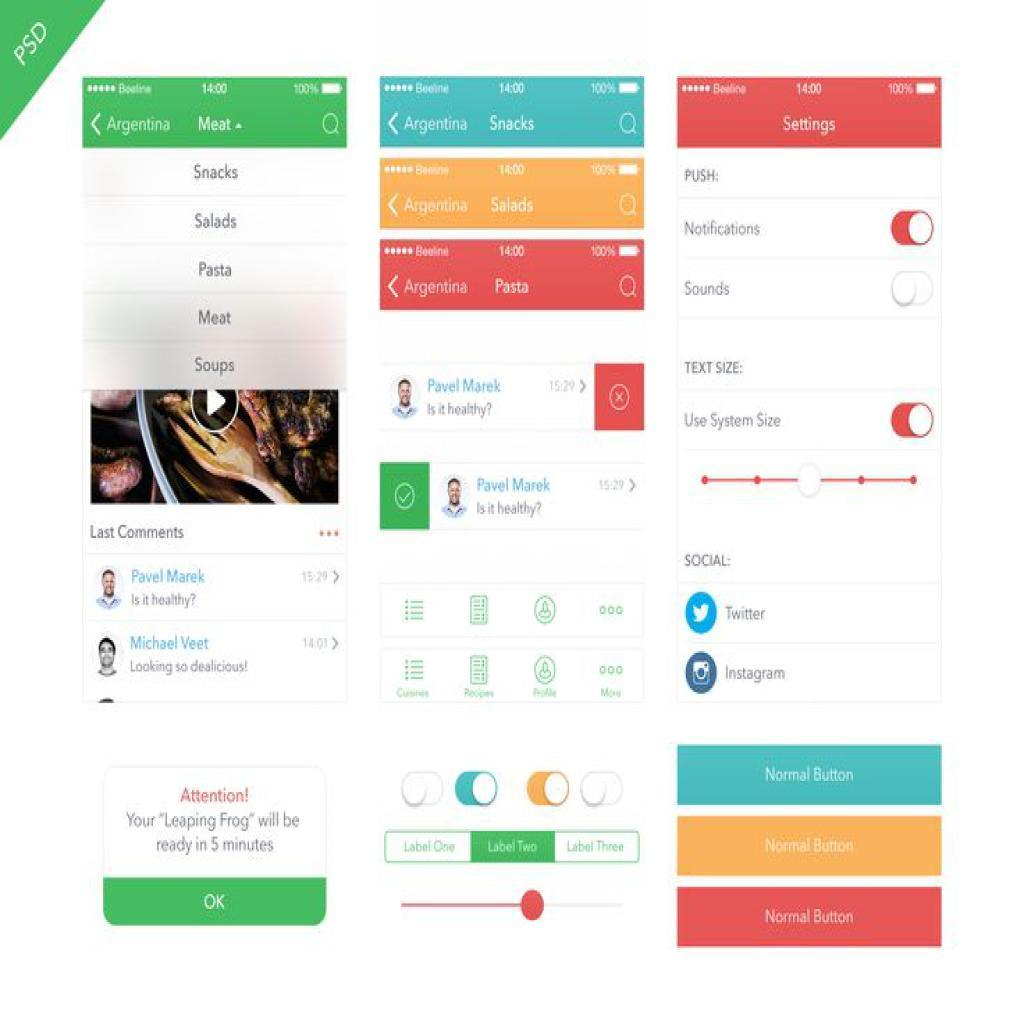button: (679, 817, 944, 879), (677, 745, 944, 806), (678, 889, 944, 950), (103, 878, 327, 928), (556, 830, 641, 864), (386, 831, 472, 863), (473, 833, 557, 863)
icon: (532, 595, 559, 628), (534, 654, 558, 686), (468, 654, 491, 687), (468, 596, 492, 627), (403, 656, 427, 683), (404, 598, 427, 626), (693, 660, 713, 688), (597, 662, 628, 678), (691, 603, 713, 625), (599, 604, 627, 618)
label: (684, 411, 785, 434), (683, 219, 764, 241), (683, 359, 746, 378), (726, 665, 789, 683), (726, 603, 771, 625), (686, 280, 733, 300), (684, 553, 735, 571), (684, 168, 723, 187)
slider: (698, 463, 923, 502), (399, 890, 627, 923)
switch: (892, 271, 935, 308), (581, 772, 626, 807), (892, 212, 936, 247), (892, 404, 935, 439), (456, 772, 499, 807), (527, 772, 570, 807), (403, 772, 444, 807)
